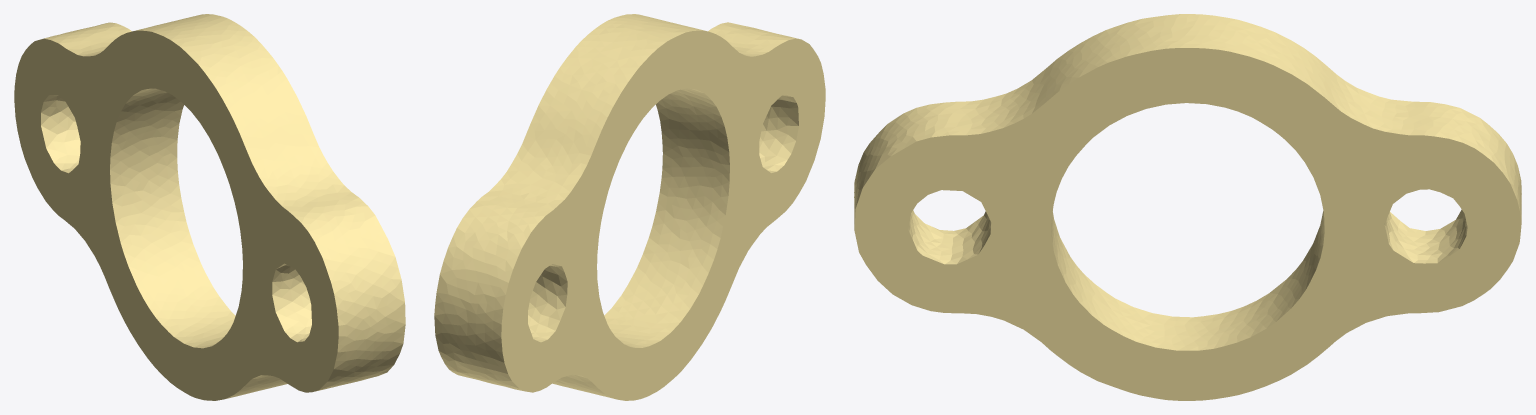
File: input.gltf
The picture shows the model from 3 angles, left to right: view 1: azimuth 30°, elevation 25°; view 2: azimuth 150°, elevation 25°; view 3: azimuth 270°, elevation 25°; orthographic projection. The views are drawn at different scales.
Parts seen in each view (by area): view 1: Renderer Node; view 2: Renderer Node; view 3: Renderer Node.
Boxes of the visible parts, <box> form: Renderer Node: <box>14,14,405,400</box>; Renderer Node: <box>434,14,825,400</box>; Renderer Node: <box>854,14,1521,400</box>.
Bounding box in the file's own units: 0.1797 × 0.8786 × 1.5.
